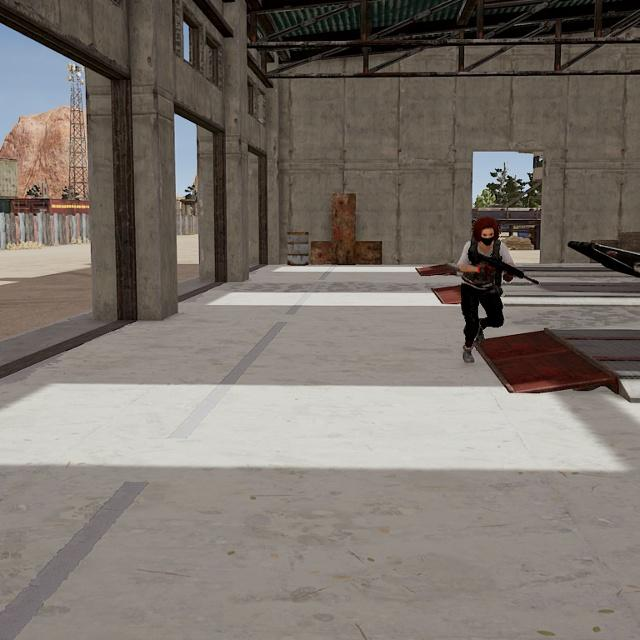people: (458, 218, 515, 365), (479, 221, 497, 249)
